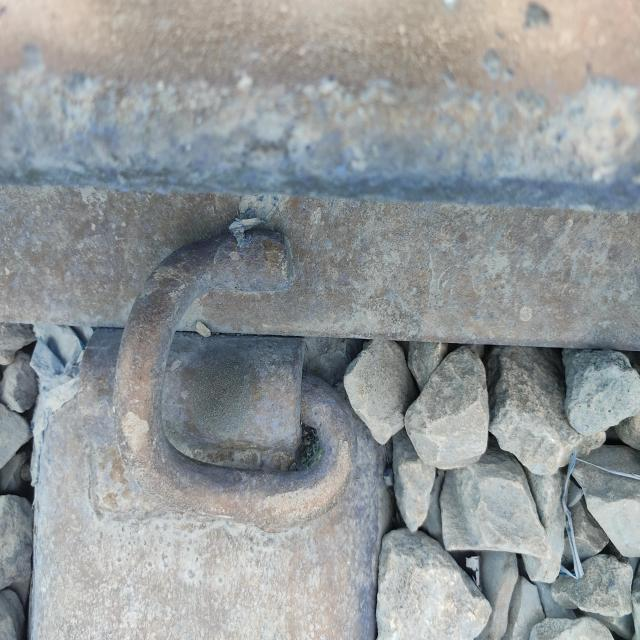Good Fasteners: (52, 142, 363, 562)
